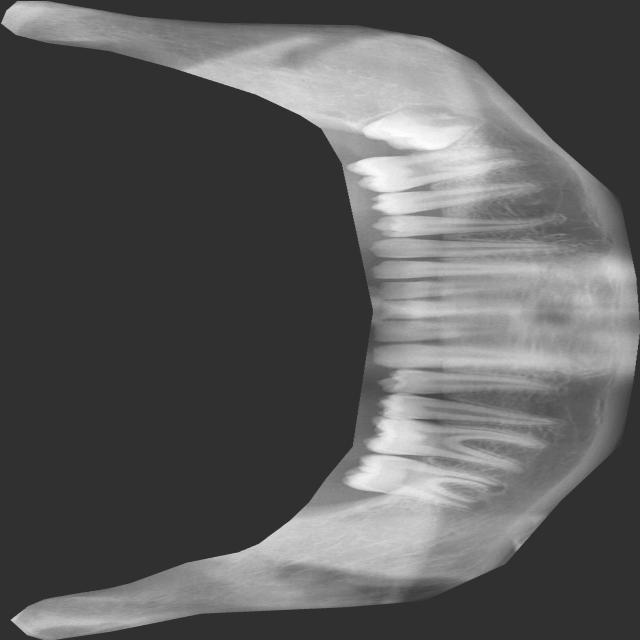mandibula: (1, 0, 640, 640)
